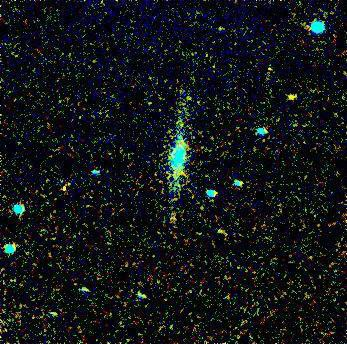star: (277, 84, 307, 114)
